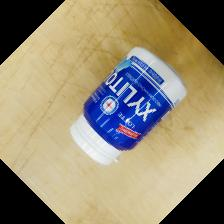Xylitol_blue: (69, 44, 188, 167)
